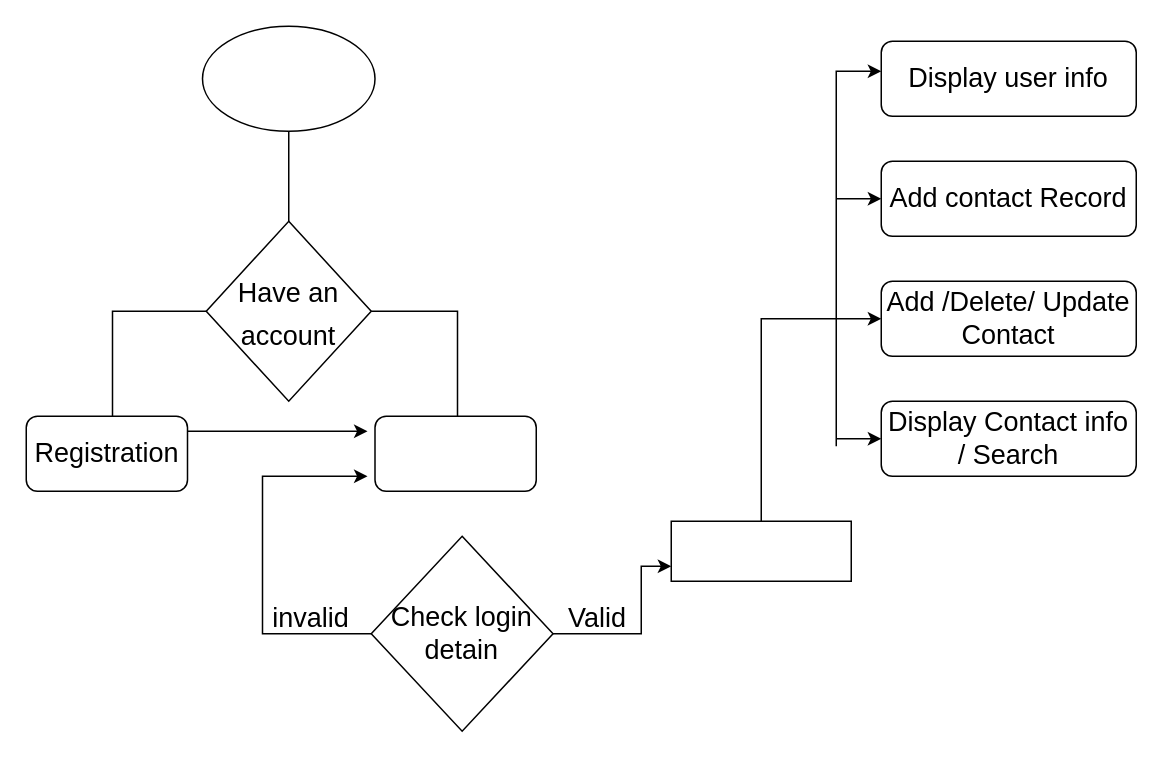
Some shapes in this 1163 by 758 pixel diagram are drawn without their labels. The centre of each missing label's shape, as x and y in pixels:
"Dashboard" goes at (760,550).
"Login page" goes at (455,453).
"Start" goes at (288,78).
